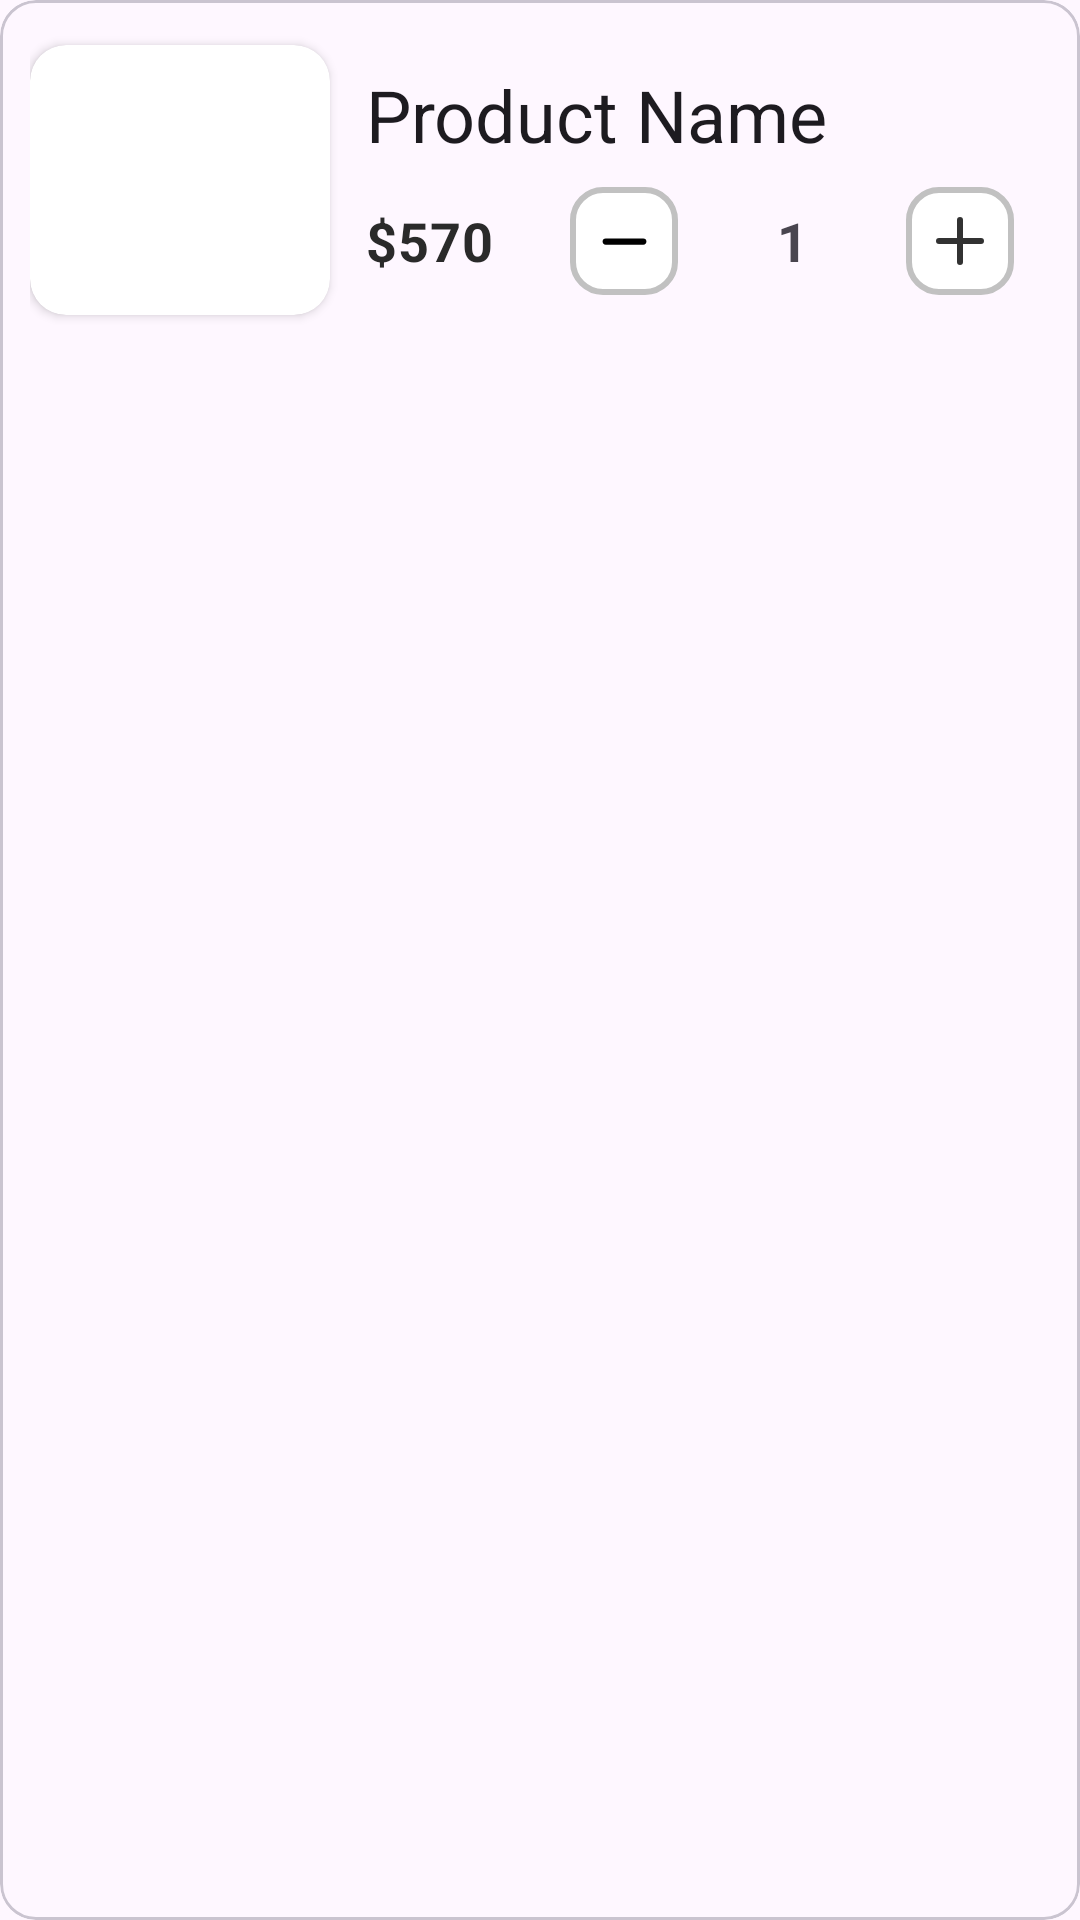

Named icons in this screenshot (1080*1920) and their bounding boxes, (x1, y1, x2, y2):
negative: (570, 187, 678, 295)
plus: (906, 187, 1014, 295)
